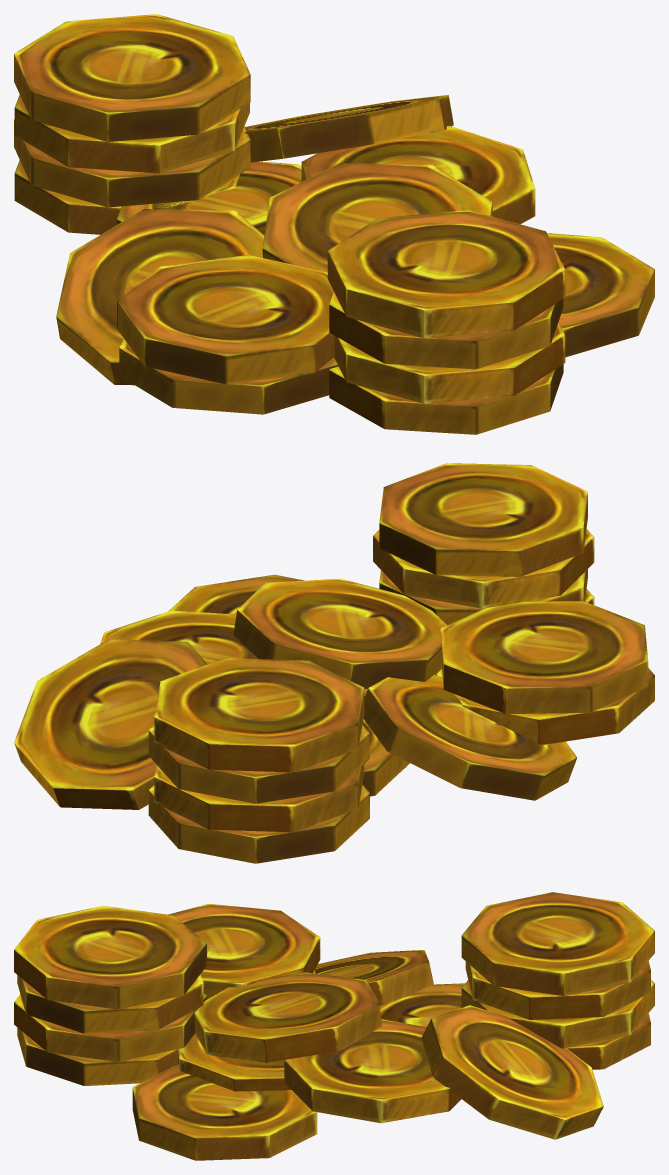
Rendered from Coin_Pile_2.fbx.
3 renders of one model, top to bottom at view 1: azimuth 30°, elevation 25°; view 2: azimuth 150°, elevation 25°; view 3: azimuth 270°, elevation 25°, orthographic. The views are drawn at different scales.
Parts seen in each view (by area): view 1: Coin_Pile_2; view 2: Coin_Pile_2; view 3: Coin_Pile_2.
Part boxes in pixels (x1,y1,x2,y2): Coin_Pile_2: [14, 14, 654, 434]; Coin_Pile_2: [14, 463, 654, 863]; Coin_Pile_2: [14, 892, 654, 1160].
Size of the model in its own units: 51.63 by 15.77 by 71.18.
